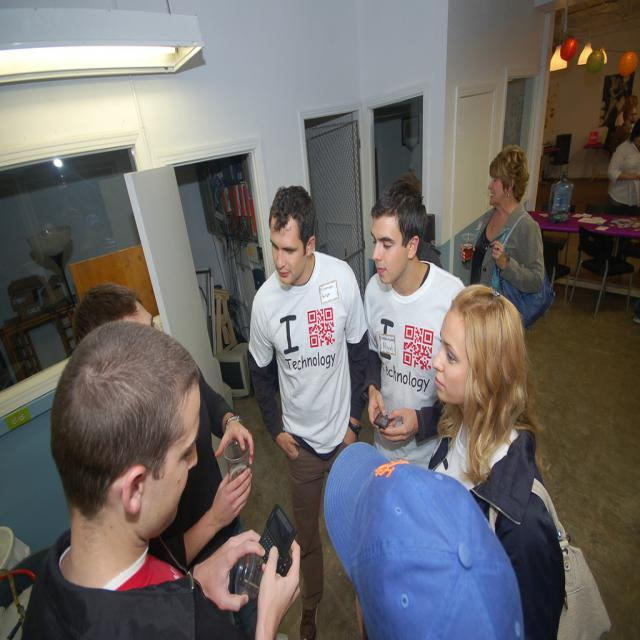qrcode: (404, 326, 435, 373), (309, 308, 336, 348)
